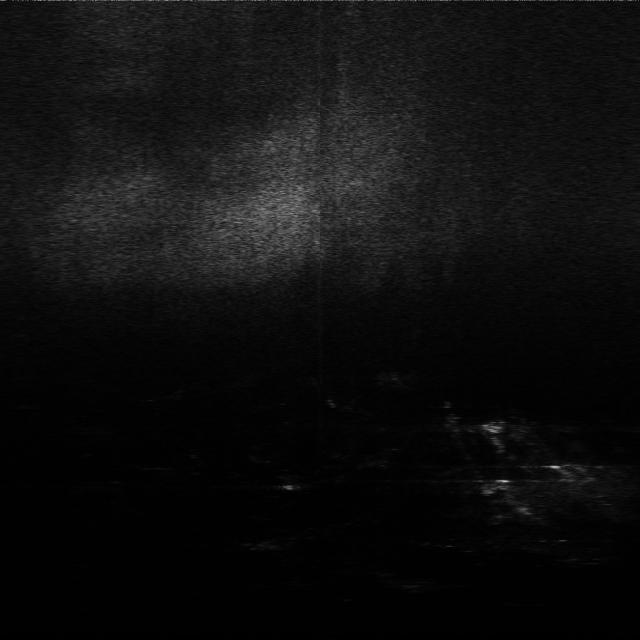rov: (480, 417, 504, 436)
